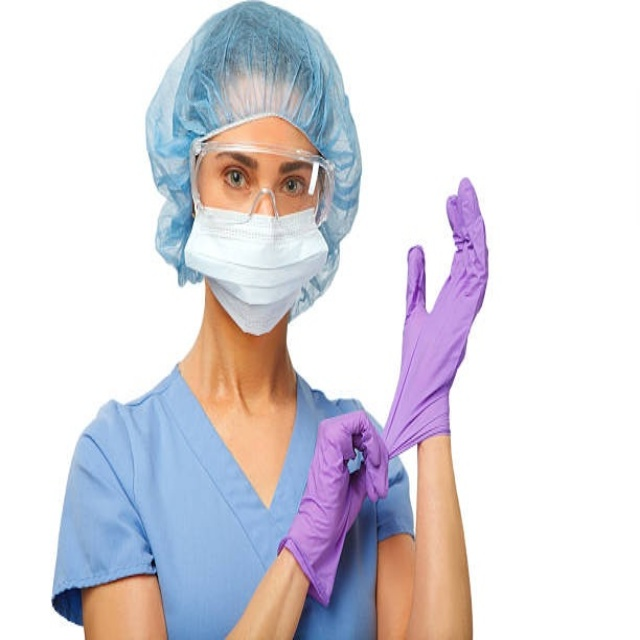Gafas: (189, 132, 335, 231)
Guantes: (384, 175, 489, 460), (279, 409, 390, 607)
Mascara: (183, 177, 330, 334)
